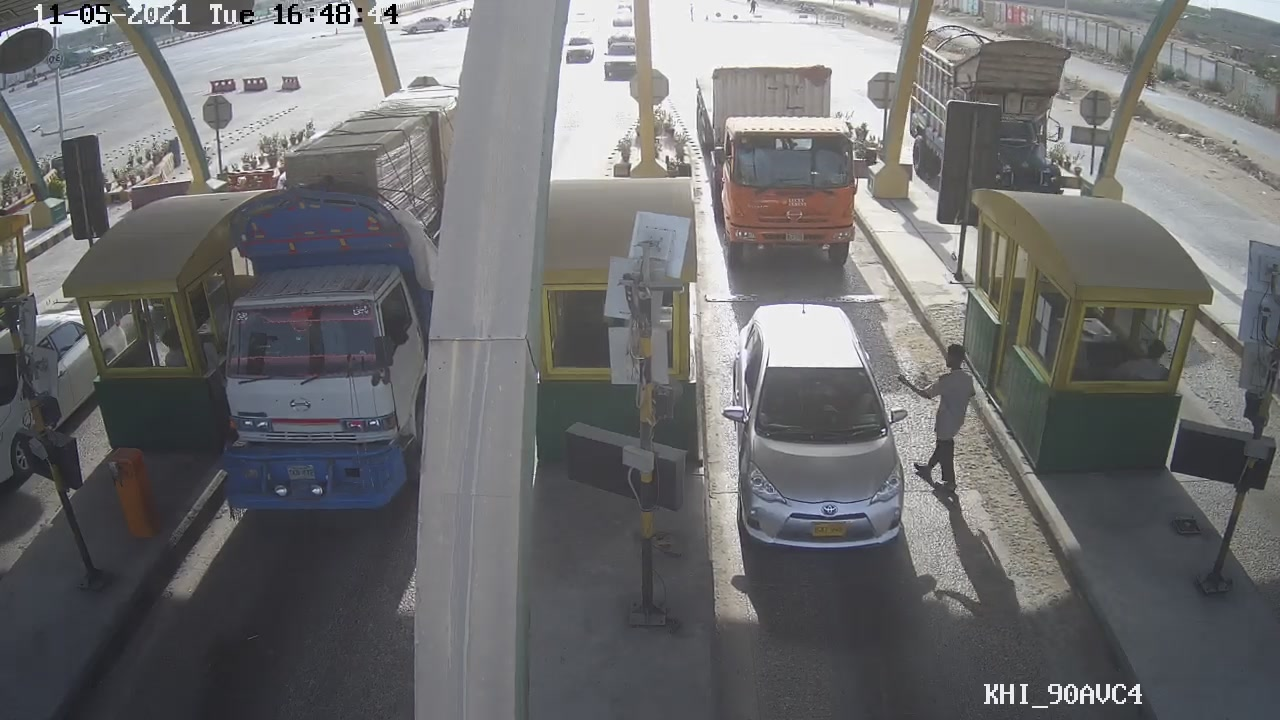F6: (700, 46, 872, 276)
